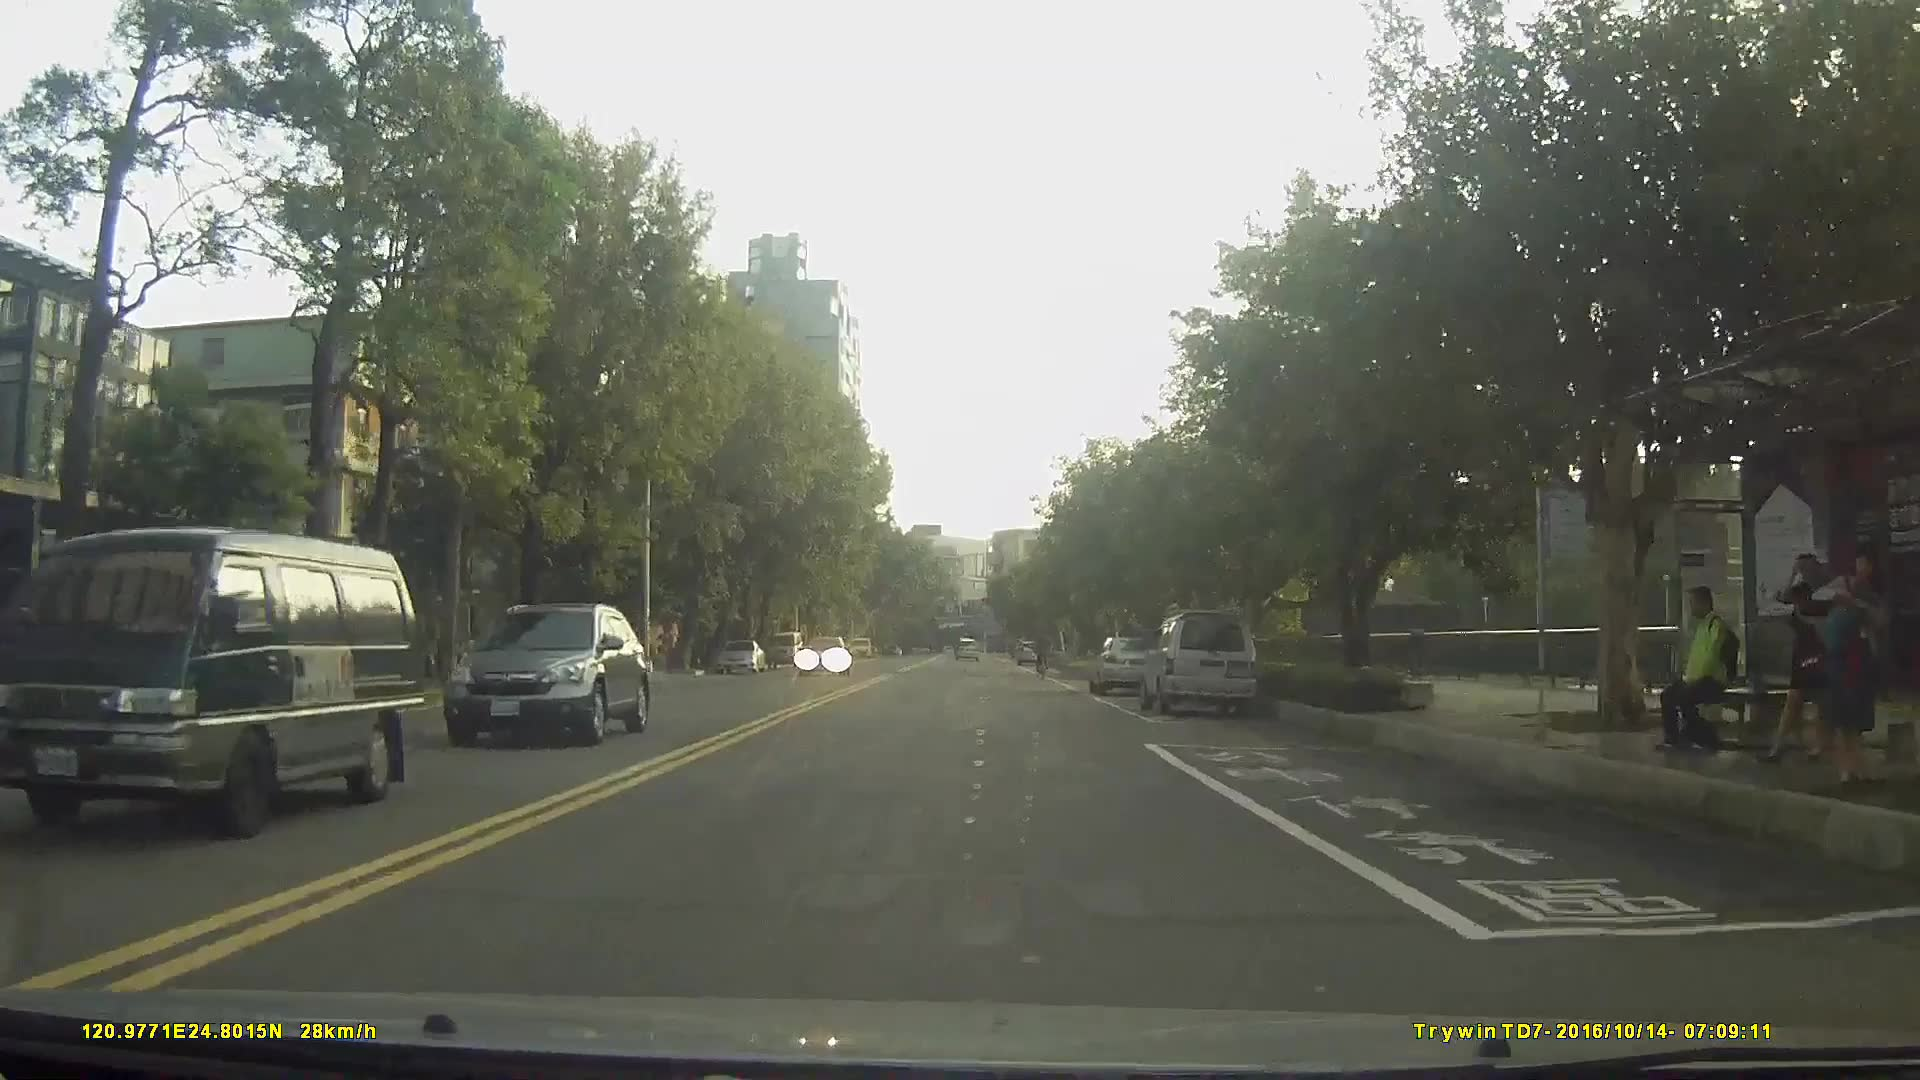pedestrian: (1806, 541, 1888, 794), (1659, 578, 1760, 771)
rider: (1032, 631, 1052, 686)
vehicle: (0, 526, 428, 842), (442, 604, 652, 745), (1139, 613, 1260, 720), (1090, 634, 1158, 695), (794, 635, 848, 680), (716, 637, 764, 675), (767, 628, 803, 670), (1015, 640, 1042, 667), (953, 635, 980, 663)
